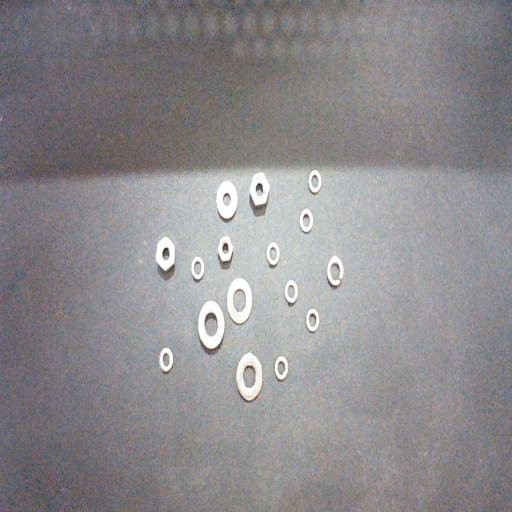nut: (248, 170, 271, 207), (155, 236, 176, 273), (217, 234, 234, 264)
washer: (198, 300, 226, 351), (236, 351, 263, 403), (226, 277, 253, 325), (215, 178, 239, 220), (326, 255, 345, 288), (306, 168, 322, 195), (298, 208, 314, 234), (305, 307, 321, 333), (274, 355, 289, 382), (159, 347, 174, 373), (266, 241, 280, 268), (190, 256, 205, 281), (284, 279, 298, 305)
